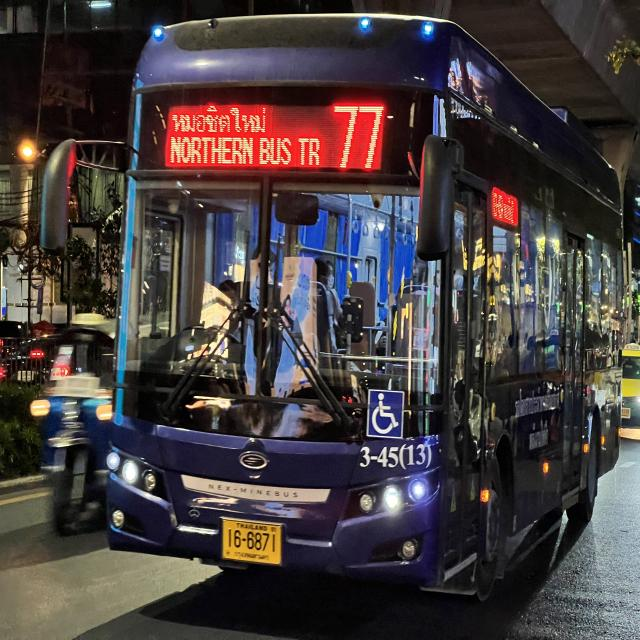Bus-Line-Number: (326, 93, 392, 180)
Destination-Sign-Normal: (163, 94, 323, 174)
TSB-Bus: (99, 3, 630, 613)
